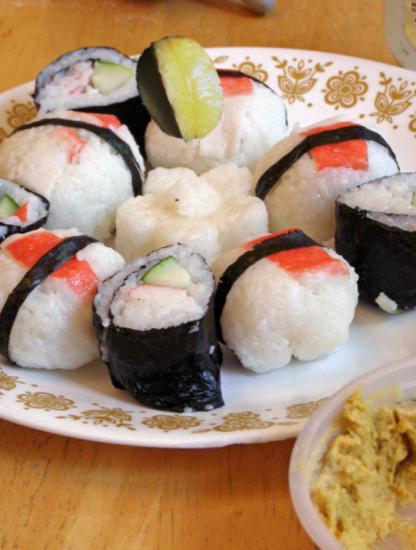Carambula: (125, 35, 235, 145)
